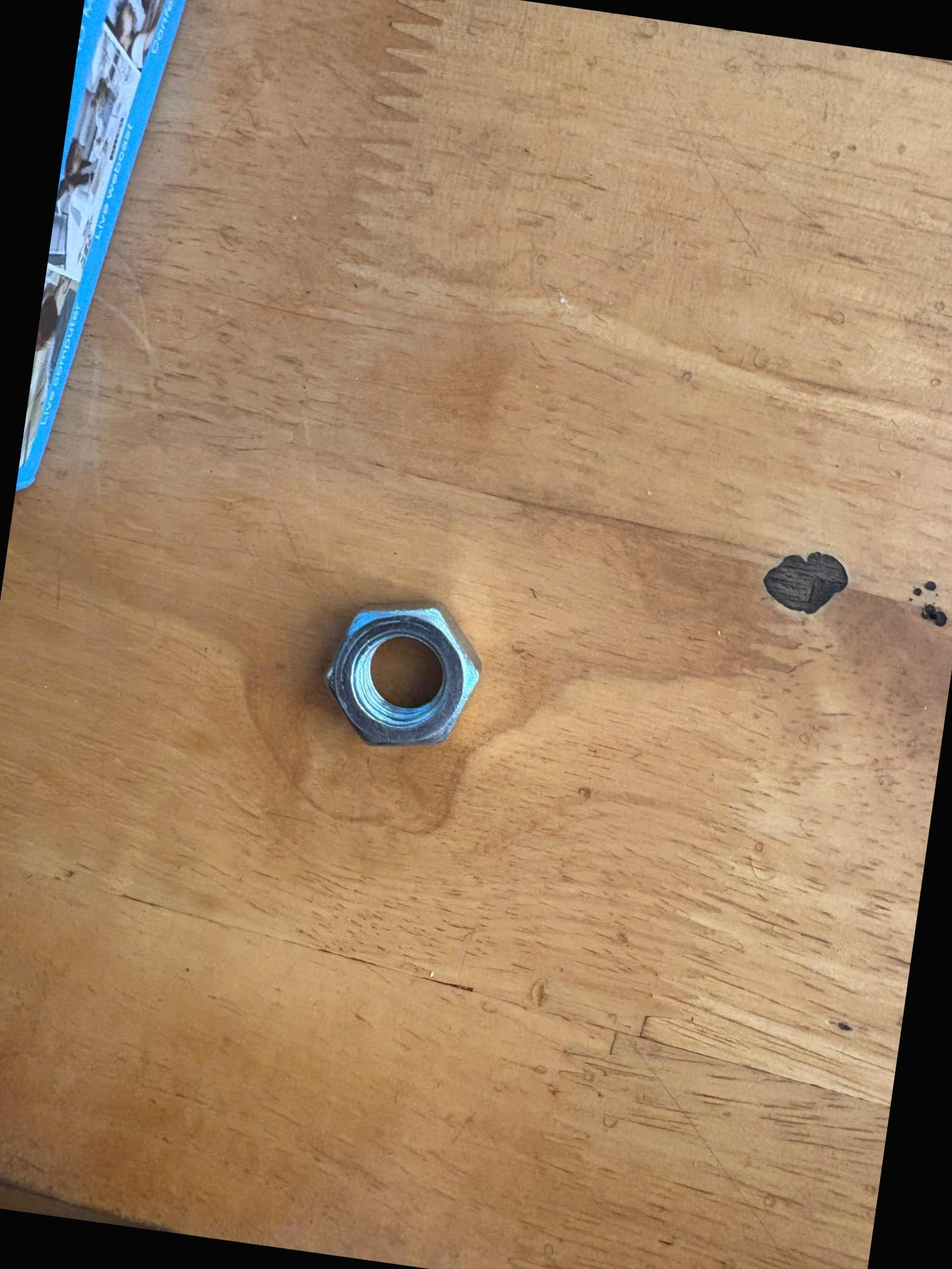nut: (309, 587, 507, 780)
